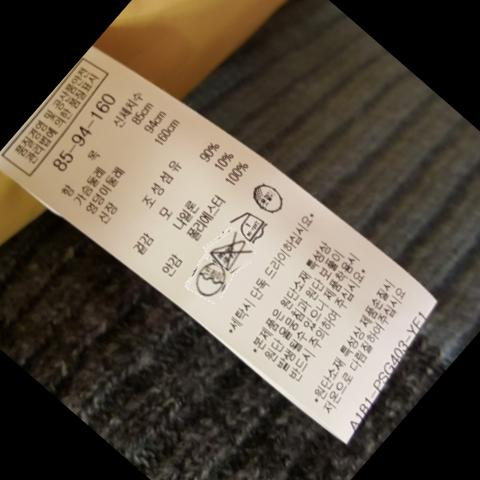dry_clean: (193, 265, 234, 297)
iron_low: (232, 212, 271, 243)
line_dry_in_shade: (249, 181, 292, 212)
non_chlorine_bleach: (209, 237, 255, 269)
